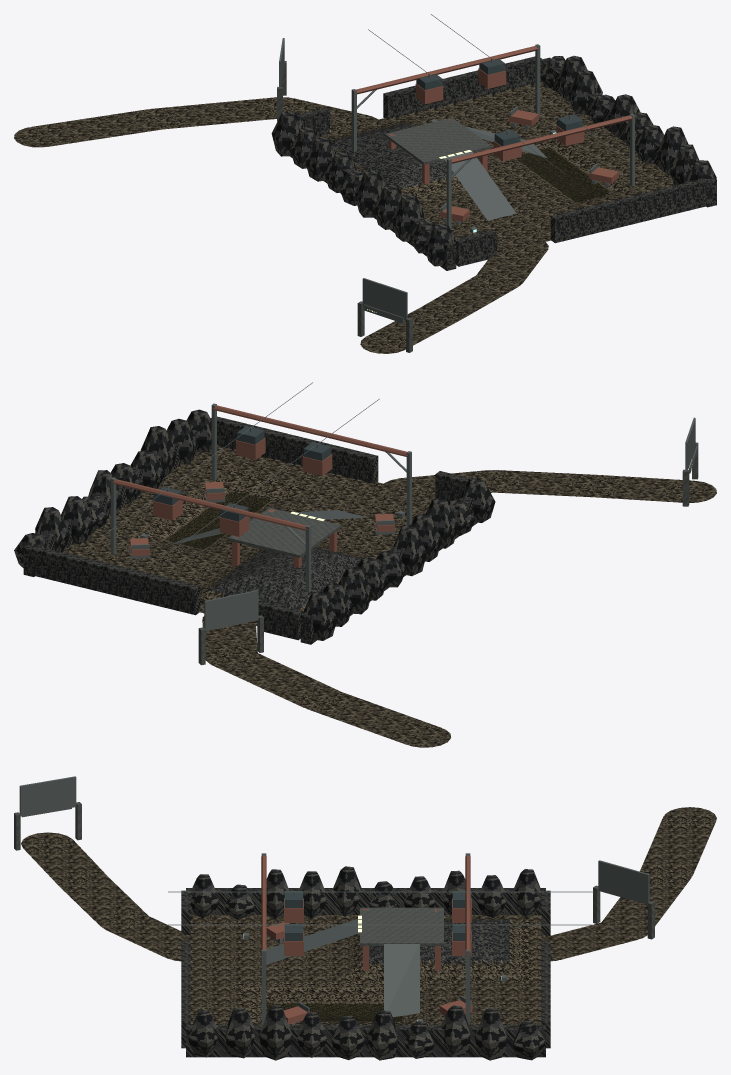
Rendered from PL_Route_B.fbx.
The picture shows the model from 3 angles, top to bottom: view 1: azimuth 30°, elevation 25°; view 2: azimuth 150°, elevation 25°; view 3: azimuth 270°, elevation 25°; orthographic projection. The views are drawn at different scales.
Visible parts, largest first — view 1: PL_B_CombatSpace, PL_Travel_ExitB, PL_Travel_B, PL_B_EndWall.001, PL_B_EndWall.003, PL_B_TerminalDeck, PL_B_FrontRamp, PL_B_Front_GateLeaf, PL_B_EndWall, PL_B_Boundary.001, PL_B_GantryBeam, PL_B_GantryBeam.001 (+20 smaller); view 2: PL_B_CombatSpace, PL_Travel_ExitB, PL_Travel_B, PL_B_EndWall.003, PL_B_EndWall.001, PL_B_TerminalDeck, PL_B_Rear_GateLeaf, PL_B_Boundary.001, PL_B_EndWall.002, PL_B_GantryBeam, PL_B_GantryBeam.001, PL_B_RimRock.004 (+22 smaller); view 3: PL_B_CombatSpace, PL_Travel_ExitB, PL_Travel_B, PL_B_Boundary.001, PL_B_TerminalDeck, PL_B_Boundary, PL_B_SideRamp, PL_B_Front_GateLeaf, PL_B_Rear_GateLeaf, PL_B_RimRock.012, PL_B_RimRock.018, PL_B_RimRock.015 (+29 smaller).
Part boxes in pixels (x1,y1,x2,y2): PL_B_CombatSpace: (319, 82, 675, 246); PL_Travel_ExitB: (14, 97, 381, 147); PL_Travel_B: (360, 236, 548, 353); PL_B_EndWall.001: (550, 178, 709, 243); PL_B_EndWall.003: (383, 56, 542, 119); PL_B_TerminalDeck: (384, 117, 491, 164); PL_B_FrontRamp: (444, 150, 516, 220); PL_B_Front_GateLeaf: (362, 278, 407, 320); PL_B_EndWall: (454, 230, 497, 266); PL_B_Boundary.001: (542, 57, 716, 207); PL_B_GantryBeam: (450, 115, 633, 163); PL_B_GantryBeam.001: (355, 46, 538, 94); PL_B_CombatSpace: (63, 445, 448, 626); PL_Travel_ExitB: (202, 616, 450, 747); PL_Travel_B: (380, 470, 716, 502); PL_B_EndWall.003: (31, 546, 200, 615); PL_B_EndWall.001: (210, 416, 378, 483); PL_B_TerminalDeck: (228, 507, 341, 557); PL_B_Rear_GateLeaf: (204, 590, 258, 631); PL_B_Boundary.001: (23, 430, 197, 576); PL_B_EndWall.002: (258, 601, 303, 640); PL_B_GantryBeam: (213, 405, 407, 456); PL_B_GantryBeam.001: (112, 479, 307, 530); PL_B_RimRock.004: (393, 524, 426, 576); PL_B_CombatSpace: (190, 915, 545, 1024); PL_Travel_ExitB: (535, 807, 716, 961); PL_Travel_B: (21, 832, 212, 961); PL_B_Boundary.001: (186, 1025, 545, 1057); PL_B_TerminalDeck: (360, 907, 443, 945); PL_B_Boundary: (186, 888, 545, 914); PL_B_SideRamp: (384, 944, 419, 1017); PL_B_Front_GateLeaf: (19, 776, 76, 816); PL_B_Rear_GateLeaf: (598, 860, 649, 904); PL_B_RimRock.012: (259, 1005, 292, 1060); PL_B_RimRock.018: (474, 1008, 507, 1060); PL_B_RimRock.015: (366, 1010, 398, 1060).
Size of the model in its own units: 9972 by 1565 by 11716.
12 materials, 5 textured.
